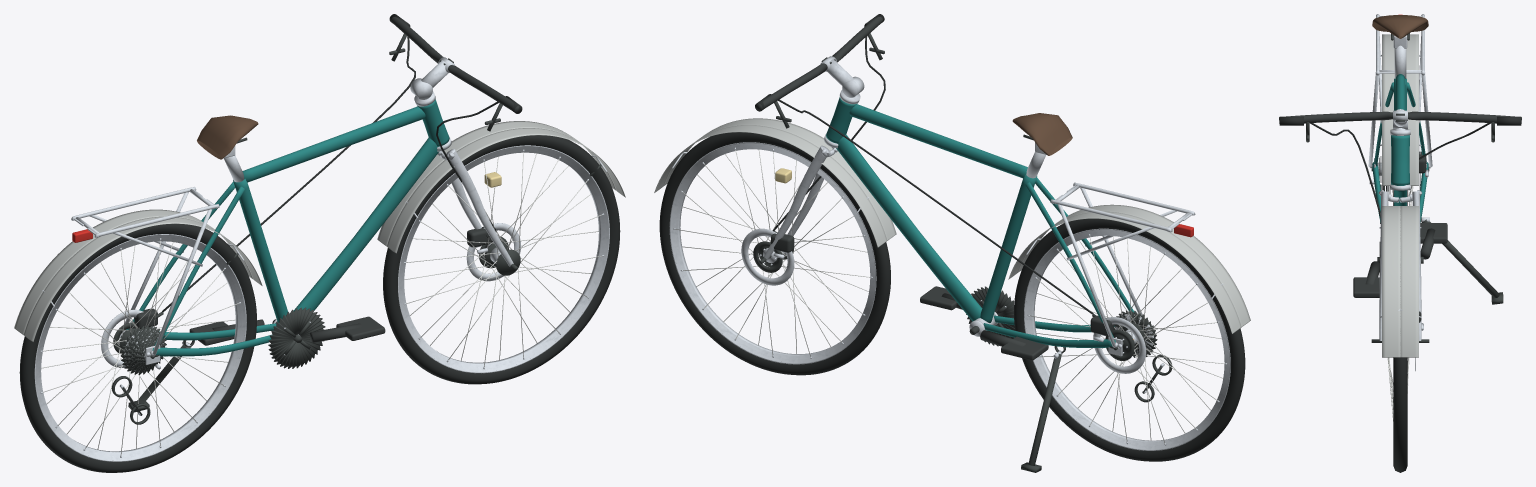
The picture shows the model from 3 angles, left to right: view 1: azimuth 30°, elevation 25°; view 2: azimuth 150°, elevation 25°; view 3: azimuth 270°, elevation 25°; orthographic projection. The views are drawn at different scales.
Parts seen in each view (by area): view 1: Front.Tire.Casing, Rear.Tire.Casing, Front.Rim.DoubleWall, Rear.Rim.DoubleWall, Frame.downTube, FrontFender.Side.1, Frame.topTube, RearFender.Side.1, RearFender.Side.-1, Drivetrain.Chainring.40T, FrontFender.Side.-1, Frame.seatTube (+13 smaller); view 2: Front.Tire.Casing, Rear.Tire.Casing, Front.Rim.DoubleWall, Rear.Rim.DoubleWall, Frame.downTube, FrontFender.Side.-1, Frame.topTube, RearFender.Side.-1, RearFender.Side.1, Frame.seatTube, FrontFender.Side.1, Seat.SaddleShell (+14 smaller); view 3: FrontFender.Side.1, FrontFender.Side.-1, Front.Tire.Casing, Cockpit.Handlebar, RearFender.Side.1, RearFender.Side.-1, Seat.SaddleShell, Frame.headTube, SideStand.MainLeg, Drivetrain.Pedal.Platform.1, Drivetrain.Pedal.Platform.-1, Fork.Leg.-1 (+8 smaller).
Boxes of the visible parts, x1=… form: Front.Tire.Casing: x1=383, y1=135, x2=620, y2=384; Rear.Tire.Casing: x1=19, y1=223, x2=256, y2=472; Front.Rim.DoubleWall: x1=398, y1=145, x2=609, y2=373; Rear.Rim.DoubleWall: x1=34, y1=234, x2=246, y2=461; Frame.downTube: x1=293, y1=137, x2=439, y2=311; FrontFender.Side.1: x1=387, y1=128, x2=625, y2=253; Frame.topTube: x1=242, y1=106, x2=425, y2=182; RearFender.Side.1: x1=24, y1=216, x2=262, y2=341; RearFender.Side.-1: x1=14, y1=209, x2=252, y2=334; Drivetrain.Chainring.40T: x1=268, y1=307, x2=325, y2=368; FrontFender.Side.-1: x1=377, y1=121, x2=615, y2=246; Frame.seatTube: x1=233, y1=179, x2=287, y2=322; Front.Tire.Casing: x1=659, y1=132, x2=890, y2=375; Rear.Tire.Casing: x1=1014, y1=218, x2=1245, y2=461; Front.Rim.DoubleWall: x1=669, y1=142, x2=876, y2=364; Rear.Rim.DoubleWall: x1=1024, y1=228, x2=1230, y2=450; Frame.downTube: x1=836, y1=134, x2=982, y2=321; FrontFender.Side.-1: x1=654, y1=125, x2=887, y2=247; Frame.topTube: x1=849, y1=104, x2=1027, y2=178; RearFender.Side.-1: x1=1008, y1=211, x2=1241, y2=333; RearFender.Side.1: x1=1018, y1=204, x2=1250, y2=326; Frame.seatTube: x1=980, y1=175, x2=1037, y2=322; FrontFender.Side.1: x1=664, y1=118, x2=896, y2=240; Seat.SaddleShell: x1=1012, y1=113, x2=1072, y2=155; FrontFender.Side.1: x1=1382, y1=206, x2=1400, y2=357; FrontFender.Side.-1: x1=1400, y1=206, x2=1418, y2=357; Front.Tire.Casing: x1=1393, y1=357, x2=1407, y2=472; Cockpit.Handlebar: x1=1279, y1=111, x2=1521, y2=123; RearFender.Side.1: x1=1382, y1=34, x2=1394, y2=185; RearFender.Side.-1: x1=1406, y1=34, x2=1418, y2=185; Seat.SaddleShell: x1=1372, y1=15, x2=1428, y2=38; Frame.headTube: x1=1391, y1=135, x2=1409, y2=185; SideStand.MainLeg: x1=1422, y1=219, x2=1499, y2=297; Drivetrain.Pedal.Platform.1: x1=1353, y1=277, x2=1379, y2=297; Drivetrain.Pedal.Platform.-1: x1=1420, y1=223, x2=1447, y2=243; Fork.Leg.-1: x1=1379, y1=191, x2=1388, y2=340.
Bounding box in the file's own units: 1.77 × 0.9462 × 0.6424.
17 materials, 5 textured.
